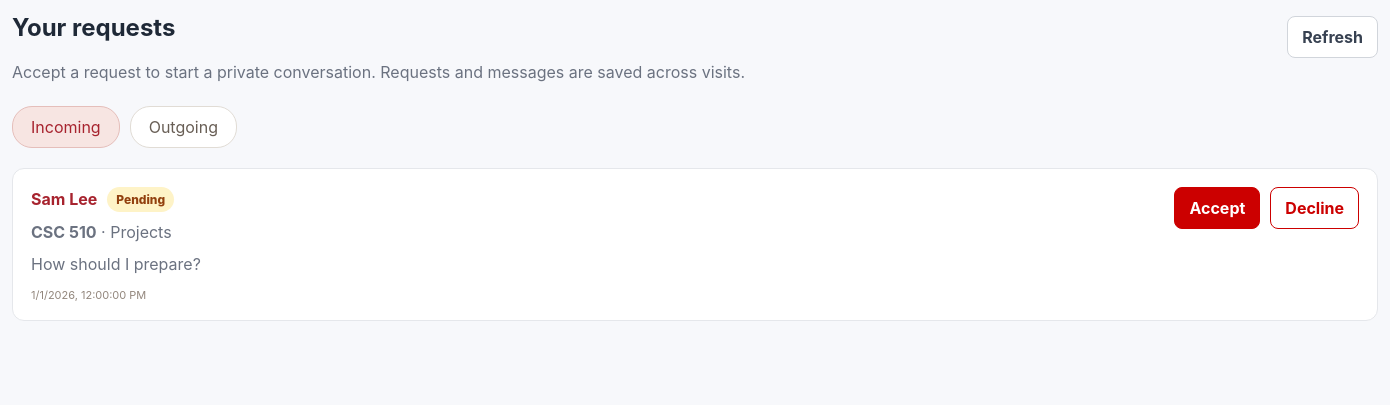
Test case: persistent advice requests › shows decision errors and restores action buttons
Click the button "Accept" at (1217, 208), box [1174,187,1260,229]
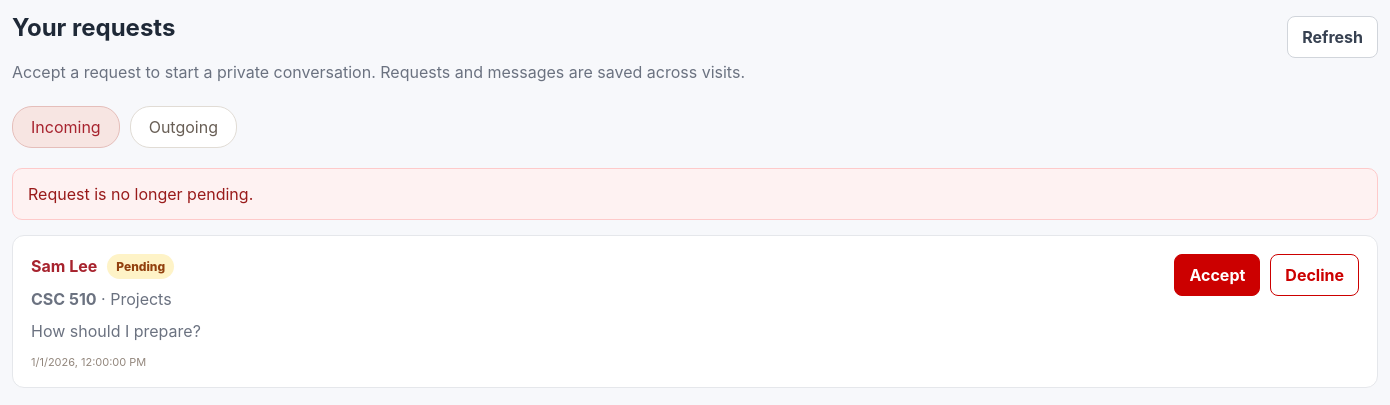
Expected: the button "Accept" is enabled, [1174,254,1260,296]
Expected: the message reads "Request is no longer pending.", [28,184,253,204]
